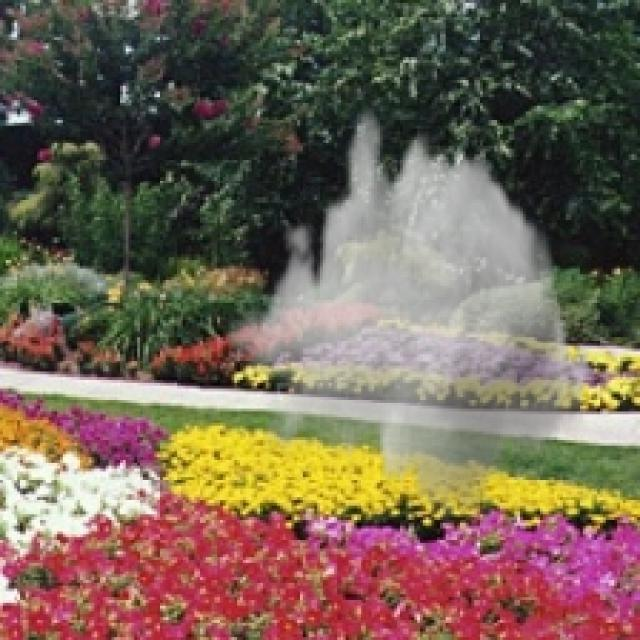Smoke: (228, 102, 598, 528)
